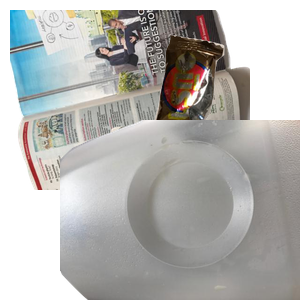glass: (98, 120, 286, 300)
paper: (10, 10, 250, 190)
plastic: (60, 120, 300, 300)
trash: (150, 32, 300, 172)
